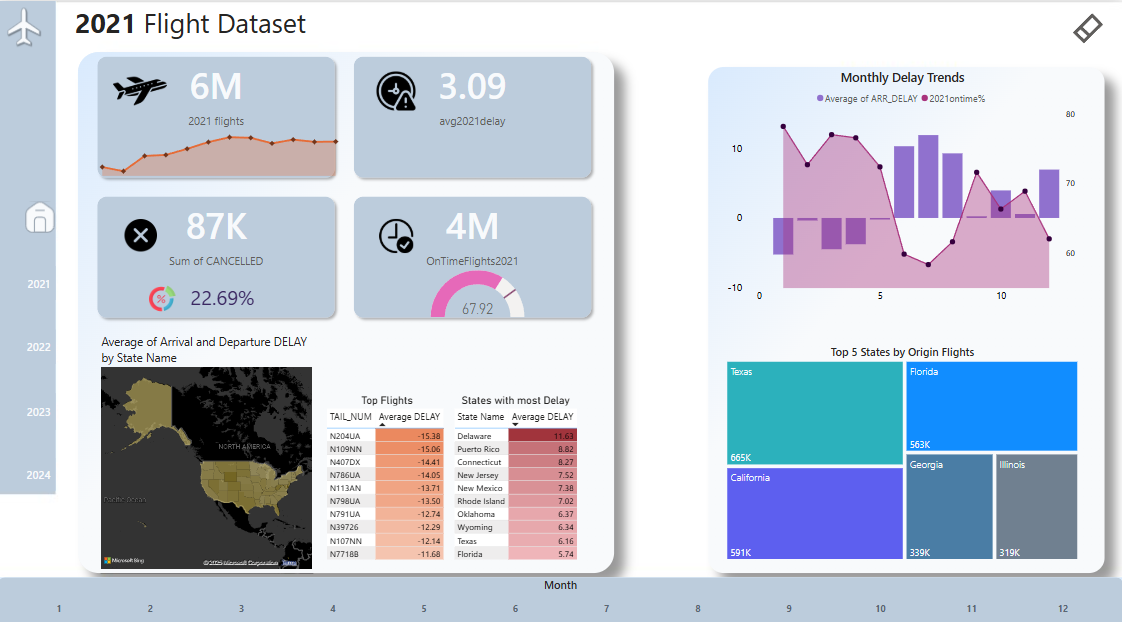

The dashboard page shown, as its layout file describes it:
{"tool":"powerbi","page":{"name":"2021","canvas":[1800,1000],"ordinal":1},"visuals":[{"type":"actionButton","box":[0,0,92,784],"z":0,"group":"g2"},{"type":"textbox","box":[117.5,0,607.5,85],"z":0},{"type":"group","id":"g1","title":"Group 1","box":[38,424,54.1,359.2],"z":0,"group":"g3"},{"type":"actionButton","box":[38,424,54.1,54.5],"z":0,"group":"g1"},{"type":"actionButton","box":[0,922,1800,78],"z":0,"group":"g4"},{"type":"actionButton","box":[0,0,92.5,85],"z":1000,"group":"g2"},{"type":"cardVisual","fields":{"Data":["2021.2021 flights","Sum(2021.CANCELLED)","2021.avg2021delay","2021.OnTimeFlights2021"]},"box":[142.5,72.5,825,452.5],"z":1000},{"type":"actionButton","box":[41.8,316.1,50.3,60],"z":1000,"group":"g3"},{"type":"actionButton","box":[38,525.9,54.1,54.5],"z":1000,"group":"g1"},{"type":"slicer","title":"Month","fields":{"Values":["2021.MONTH"]},"box":[0,922,1800,78],"z":1000,"group":"g4"},{"type":"group","id":"g2","title":"Group 3","box":[0,0,92,784],"z":2000},{"type":"group","id":"g3","title":"Group 2","box":[38,316.1,54.1,467.1],"z":2000,"group":"g2"},{"type":"actionButton","box":[38,627.7,54.1,57.9],"z":2000,"group":"g1"},{"type":"actionButton","box":[38.3,733,53.8,50.2],"z":3000,"group":"g1"},{"type":"group","id":"g4","title":"Group 4","box":[0,922,1800,78],"z":3000},{"type":"treemap","title":"Top 5 States by Origin Flights","fields":{"Group":["2021.ORIGIN_STATE_NM"],"Values":["2021.2021 flights"]},"box":[1162,550,570,348],"z":4000},{"type":"lineClusteredColumnComboChart","title":"Monthly Delay Trends","fields":{"Category":["2021.MONTH"],"Y2":["2021.2021ontime%"],"Y":["Avg(2021.ARR_DELAY)"]},"box":[1162,108,570,384],"z":5000},{"type":"lineChart","fields":{"Y":["2021.2021 flights"],"Category":["2021.MONTH"]},"box":[117.5,200,437.5,85],"z":6000},{"type":"gauge","fields":{"Y":["2021.2021ontime%"]},"box":[670,425,195,85],"z":7000},{"type":"filledMap","title":"Average of Arrival and Departure DELAY by State Name","fields":{"Category":["2021.ORIGIN_STATE_NM"]},"box":[160,532.5,347.5,382.5],"z":8000},{"type":"tableEx","title":"Top Flights ","fields":{"Values":["2021.TAIL_NUM","Avg(2021.ARR_DELAY)"]},"box":[520,627.5,205,280],"z":9000},{"type":"card","fields":{"Values":["2021.percentcancel"]},"box":[197.5,437.5,322.5,72.5],"z":10000},{"type":"image","box":[187.5,450,150,52.5],"z":11000},{"type":"tableEx","title":"States with most Delay","fields":{"Values":["2021.DEST_STATE_NM","Avg(2021.ARR_DELAY)"]},"box":[724.3,627.1,208.6,280],"z":12000},{"type":"actionButton","box":[1687.5,16.2,112.5,56.2],"z":13000},{"type":"image","box":[152,96,150,96],"z":14000},{"type":"image","box":[188,344,80,62],"z":15000},{"type":"image","box":[552,108,170,72],"z":16000},{"type":"image","box":[562,340,150,72],"z":17000}]}

Visuals, with their boxes on the page's 1800x1000 design canvas (x1, y1, x2, y2). These are canvas units, not pixel positions in the 1122x622 screenshot, which may show the page scaled, cropped or inside an application window:
actionButton: rect(0, 0, 92, 784)
textbox: rect(118, 0, 725, 85)
"Group 1" group: rect(38, 424, 92, 783)
actionButton: rect(38, 424, 92, 478)
actionButton: rect(0, 922, 1800, 1000)
actionButton: rect(0, 0, 92, 85)
cardVisual - 2021.2021 flights x Sum(2021.CANCELLED): rect(142, 72, 968, 525)
actionButton: rect(42, 316, 92, 376)
actionButton: rect(38, 526, 92, 580)
"Month" slicer: rect(0, 922, 1800, 1000)
"Group 3" group: rect(0, 0, 92, 784)
"Group 2" group: rect(38, 316, 92, 783)
actionButton: rect(38, 628, 92, 686)
actionButton: rect(38, 733, 92, 783)
"Group 4" group: rect(0, 922, 1800, 1000)
"Top 5 States by Origin Flights" treemap: rect(1162, 550, 1732, 898)
"Monthly Delay Trends" lineClusteredColumnComboChart: rect(1162, 108, 1732, 492)
lineChart - 2021.2021 flights x 2021.MONTH: rect(118, 200, 555, 285)
gauge - 2021.2021ontime%: rect(670, 425, 865, 510)
"Average of Arrival and Departure DELAY by State Name" filledMap: rect(160, 532, 508, 915)
"Top Flights " tableEx: rect(520, 628, 725, 908)
card - 2021.percentcancel: rect(198, 438, 520, 510)
image: rect(188, 450, 338, 502)
"States with most Delay" tableEx: rect(724, 627, 933, 907)
actionButton: rect(1688, 16, 1800, 72)
image: rect(152, 96, 302, 192)
image: rect(188, 344, 268, 406)
image: rect(552, 108, 722, 180)
image: rect(562, 340, 712, 412)
